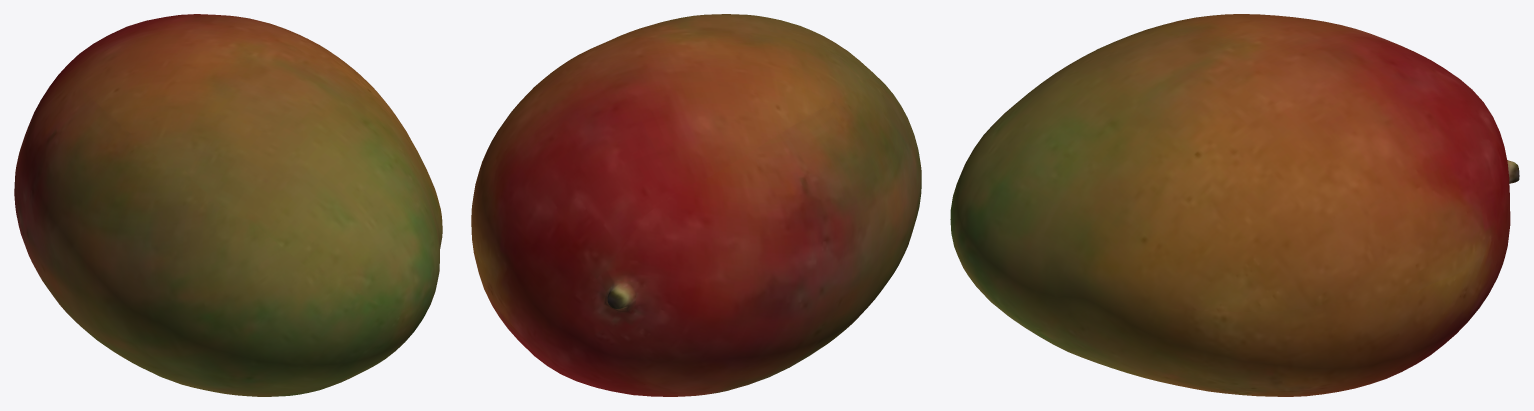
The model's file is mango.glb.
The picture shows the model from 3 angles, left to right: view 1: azimuth 30°, elevation 25°; view 2: azimuth 150°, elevation 25°; view 3: azimuth 270°, elevation 25°; orthographic projection. The views are drawn at different scales.
Parts seen in each view (by area): view 1: sm_food_produce_mango_a01_01; view 2: sm_food_produce_mango_a01_01; view 3: sm_food_produce_mango_a01_01.
Part boxes in pixels (x1,y1,x2,y2): sm_food_produce_mango_a01_01: (14, 14, 442, 396); sm_food_produce_mango_a01_01: (471, 14, 921, 396); sm_food_produce_mango_a01_01: (950, 14, 1519, 396).
Bounding box in the file's own units: 0.1121 × 0.0987 × 0.1508.
1 material, 1 textured.
